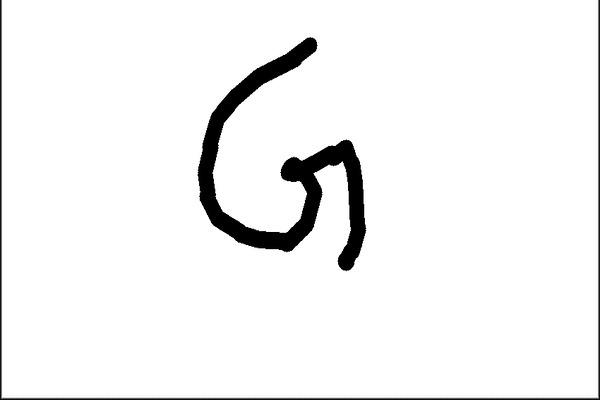G: (187, 32, 372, 275)
